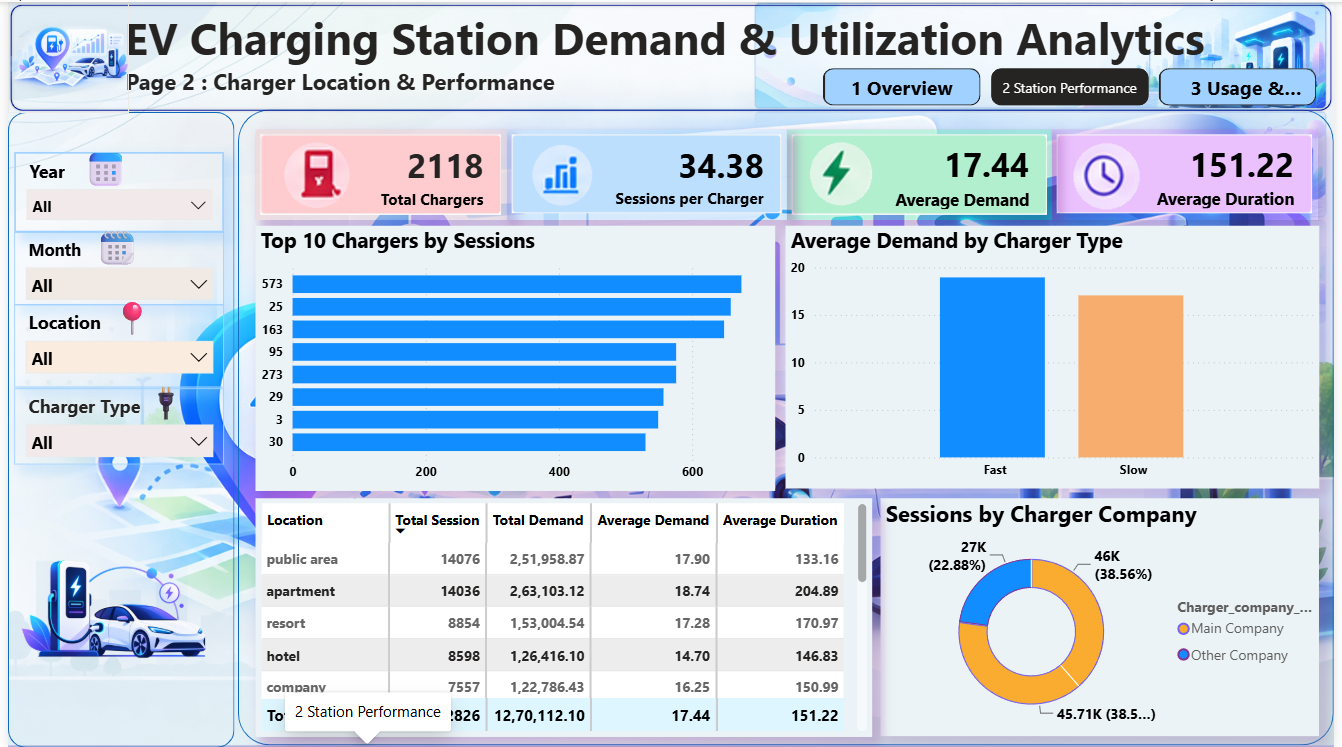

What the dashboard file says about the page in this screenshot:
{"tool":"powerbi","page":{"name":"2 Station Performance","canvas":[1280,720],"ordinal":1},"visuals":[{"type":"image","box":[715.4,0,562.2,312.5],"z":0},{"type":"image","box":[0,0,1280,720.2],"z":1000},{"type":"shape","box":[222.5,103.8,1057.5,613.8],"z":2000},{"type":"shape","box":[0,106.2,218.8,613.8],"z":3000},{"type":"shape","box":[0,0,1280,107.5],"z":4000},{"type":"textbox","box":[107,0,1104.6,91.9],"z":5000},{"type":"textbox","box":[108.8,56.2,455,51.2],"z":6000},{"type":"slicer","fields":{"Values":["EVcharge.Year"]},"box":[6.2,145,202.5,77.5],"z":7000},{"type":"slicer","fields":{"Values":["EVcharge.Month"]},"box":[6.2,222.5,202.5,70],"z":8000},{"type":"slicer","fields":{"Values":["EVcharge.Location"]},"box":[6.2,292.5,202.5,80],"z":9000},{"type":"slicer","fields":{"Values":["EVcharge.Charger_type_label"]},"box":[6.2,372.5,202.5,73.8],"z":10000},{"type":"pageNavigator","title":"OverVi","box":[786.6,63.9,479,36.2],"z":11000},{"type":"cardVisual","fields":{"Data":["EVcharge.Total Chargers"]},"box":[238.8,122.5,242.5,87.5],"z":12000},{"type":"cardVisual","fields":{"Data":["EVcharge.Average Duration"]},"box":[1007.4,123.1,257,86.9],"z":13000},{"type":"cardVisual","fields":{"Data":["EVcharge.Average Demand"]},"box":[751.2,122.5,256.2,87.5],"z":14000},{"type":"cardVisual","fields":{"Data":["EVcharge.Sessions per Charger"]},"box":[481.4,123.1,270.2,86.9],"z":15000},{"type":"clusteredBarChart","title":"Top 10 Chargers by Sessions","fields":{"Y":["EVcharge.Total Session"],"Category":["EVcharge.Charger_id"]},"box":[238.9,216,501.9,255.8],"z":16000},{"type":"clusteredColumnChart","title":"Average Demand by Charger Type","fields":{"Y":["EVcharge.Average Demand"],"Category":["EVcharge.Charger_type_label"]},"box":[750,216.2,515,253.8],"z":17000},{"type":"donutChart","title":"Sessions by Charger Company","fields":{"Y":["EVcharge.Total Session","Sum(EVcharge.Charger_company)"],"Category":["EVcharge.Charger_company_label"]},"box":[842.1,479,423.5,229.2],"z":18000},{"type":"tableEx","fields":{"Values":["EVcharge.Location","EVcharge.Total Session","EVcharge.Total Demand","EVcharge.Average Demand","EVcharge.Average Duration"]},"box":[238.8,478.8,595,230],"z":19000},{"type":"textbox","box":[67.6,133.9,57.9,55.5],"z":20000},{"type":"textbox","box":[78.8,210,62.5,57.5],"z":21000},{"type":"textbox","box":[92.5,277.5,48.8,55],"z":22000},{"type":"textbox","box":[125,360,62.5,55],"z":23000},{"type":"image","box":[0,454.8,208.7,263],"z":24000},{"type":"image","box":[259.4,133.9,77.2,66.4],"z":25000},{"type":"image","box":[498.3,136.3,73.6,61.5],"z":26000},{"type":"image","box":[766.1,133.9,76,63.9],"z":27000},{"type":"image","box":[1026.7,131.5,67.6,73.6],"z":28000},{"type":"image","box":[0,0,117,107.4],"z":29000}]}

Visuals, with their boxes in screenshot pixels (x1, y1, x2, y2), scaled from the page's 1280x720 canvas onto the 1342x747 screenshot:
image: locate(750, 0, 1339, 324)
image: locate(0, 0, 1341, 746)
shape: locate(233, 108, 1341, 745)
shape: locate(0, 110, 229, 746)
shape: locate(0, 0, 1341, 112)
textbox: locate(112, 0, 1270, 95)
textbox: locate(114, 58, 591, 111)
slicer - EVcharge.Year: locate(7, 150, 219, 231)
slicer - EVcharge.Month: locate(7, 231, 219, 303)
slicer - EVcharge.Location: locate(7, 303, 219, 386)
slicer - EVcharge.Charger_type_label: locate(7, 386, 219, 463)
"OverVi" pageNavigator: locate(825, 66, 1327, 104)
cardVisual - EVcharge.Total Chargers: locate(250, 127, 505, 218)
cardVisual - EVcharge.Average Duration: locate(1056, 128, 1326, 218)
cardVisual - EVcharge.Average Demand: locate(788, 127, 1056, 218)
cardVisual - EVcharge.Sessions per Charger: locate(505, 128, 788, 218)
"Top 10 Chargers by Sessions" clusteredBarChart: locate(250, 224, 777, 489)
"Average Demand by Charger Type" clusteredColumnChart: locate(786, 224, 1326, 488)
"Sessions by Charger Company" donutChart: locate(883, 497, 1327, 735)
tableEx - EVcharge.Location x EVcharge.Total Session: locate(250, 497, 874, 735)
textbox: locate(71, 139, 132, 197)
textbox: locate(83, 218, 148, 278)
textbox: locate(97, 288, 148, 345)
textbox: locate(131, 374, 197, 431)
image: locate(0, 472, 219, 745)
image: locate(272, 139, 353, 208)
image: locate(522, 141, 600, 205)
image: locate(803, 139, 883, 205)
image: locate(1076, 136, 1147, 213)
image: locate(0, 0, 123, 111)
